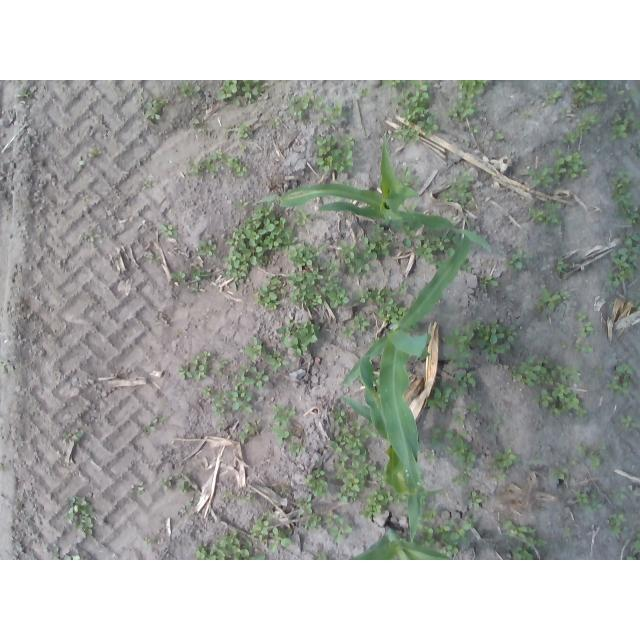Maize: (342, 223, 474, 545), (253, 132, 493, 252), (341, 355, 449, 494), (347, 520, 454, 561)
Weeds: (224, 202, 296, 283), (330, 417, 378, 504), (289, 244, 326, 309), (512, 353, 581, 387), (464, 320, 516, 362), (197, 531, 266, 560), (274, 321, 323, 354), (605, 245, 640, 287), (338, 237, 378, 272), (551, 382, 586, 419), (67, 495, 96, 538), (502, 521, 546, 547), (611, 169, 634, 218), (553, 148, 588, 180), (255, 274, 284, 310), (360, 487, 393, 517), (178, 352, 211, 381), (398, 91, 429, 121), (436, 521, 476, 544), (606, 362, 634, 394), (448, 436, 476, 468), (422, 235, 451, 261), (520, 167, 553, 189), (370, 225, 392, 256), (425, 385, 451, 411), (536, 287, 561, 313), (269, 527, 294, 553), (307, 470, 330, 498), (569, 81, 592, 108), (286, 94, 314, 115), (313, 134, 339, 156), (331, 148, 354, 172), (508, 249, 533, 271), (451, 99, 477, 120), (495, 446, 522, 466), (329, 518, 352, 541), (449, 169, 473, 191), (230, 390, 254, 412), (444, 329, 465, 354), (234, 366, 255, 391), (392, 125, 421, 143), (243, 81, 265, 104), (267, 349, 289, 372), (273, 404, 297, 425), (456, 371, 477, 394), (459, 80, 487, 97), (326, 261, 343, 288), (545, 200, 564, 224), (251, 516, 270, 540), (244, 338, 262, 363), (418, 117, 439, 138), (577, 113, 599, 133), (326, 289, 349, 307), (270, 426, 290, 446), (534, 389, 555, 408), (217, 81, 238, 100), (62, 424, 84, 442), (375, 297, 393, 319), (410, 80, 431, 98), (229, 158, 248, 177), (327, 103, 346, 122), (468, 491, 487, 510), (404, 221, 418, 246), (213, 391, 228, 414), (252, 366, 269, 386), (444, 192, 472, 204), (294, 208, 315, 224), (624, 98, 637, 123), (513, 546, 536, 560), (391, 302, 406, 323), (200, 239, 217, 257), (333, 405, 349, 424), (620, 231, 640, 246), (384, 80, 408, 92), (289, 443, 308, 458), (487, 415, 502, 433), (182, 82, 201, 96), (237, 122, 252, 139), (316, 156, 333, 171), (418, 525, 435, 540), (306, 515, 323, 530), (178, 473, 192, 491), (147, 102, 161, 120), (186, 157, 200, 175), (589, 89, 607, 103), (450, 356, 471, 368), (612, 124, 627, 140), (613, 486, 628, 502), (157, 477, 173, 492), (354, 315, 370, 330), (622, 415, 639, 429), (244, 421, 261, 435), (85, 229, 102, 243), (430, 427, 443, 445), (588, 451, 600, 470), (562, 131, 578, 145), (442, 541, 458, 555), (610, 514, 627, 527), (356, 286, 369, 303), (341, 133, 355, 148), (556, 257, 570, 272), (421, 507, 436, 521), (371, 472, 385, 487), (216, 360, 228, 377), (479, 275, 497, 286), (202, 157, 216, 171), (325, 509, 339, 523), (548, 89, 561, 104), (581, 323, 594, 338), (369, 287, 382, 302), (466, 400, 482, 412), (553, 468, 569, 480), (452, 475, 469, 486), (163, 224, 178, 236), (625, 212, 640, 224), (628, 540, 640, 555), (130, 482, 146, 493), (584, 502, 603, 511), (575, 492, 589, 504), (382, 285, 396, 297), (454, 412, 466, 425), (426, 452, 439, 464), (394, 492, 407, 504), (302, 502, 315, 514), (396, 282, 408, 295), (592, 80, 609, 89), (530, 209, 543, 220), (345, 326, 356, 339), (172, 272, 185, 283), (577, 443, 587, 457), (314, 97, 323, 112), (461, 260, 472, 272), (190, 267, 202, 278), (223, 489, 237, 498), (237, 199, 248, 210), (16, 87, 28, 97), (239, 432, 249, 444), (153, 97, 167, 105), (154, 414, 164, 425), (421, 540, 436, 547), (64, 554, 81, 560), (212, 150, 223, 159), (631, 120, 640, 131), (582, 345, 594, 353), (238, 494, 251, 501), (200, 271, 213, 278), (559, 290, 569, 299), (202, 387, 210, 398), (492, 473, 506, 479), (402, 167, 411, 176), (562, 526, 571, 535), (147, 421, 155, 431), (629, 89, 640, 96), (317, 553, 328, 560), (271, 118, 280, 126), (320, 116, 328, 125), (578, 312, 587, 320), (594, 365, 603, 373), (216, 422, 224, 431), (234, 98, 243, 106), (89, 150, 99, 157), (361, 89, 368, 99), (615, 113, 622, 123), (444, 430, 454, 437), (148, 253, 154, 264), (464, 467, 473, 474), (569, 457, 578, 464), (612, 526, 621, 533), (521, 110, 531, 116), (147, 180, 154, 188), (497, 133, 504, 141), (563, 108, 571, 115), (600, 443, 607, 451), (589, 493, 597, 500), (636, 527, 640, 541), (413, 177, 420, 185), (240, 145, 247, 152), (637, 143, 640, 158), (472, 124, 477, 132), (576, 344, 581, 352), (625, 556, 635, 560), (193, 119, 200, 124), (536, 455, 541, 462), (145, 537, 150, 544), (462, 430, 467, 436), (617, 90, 624, 94), (157, 256, 163, 260)
